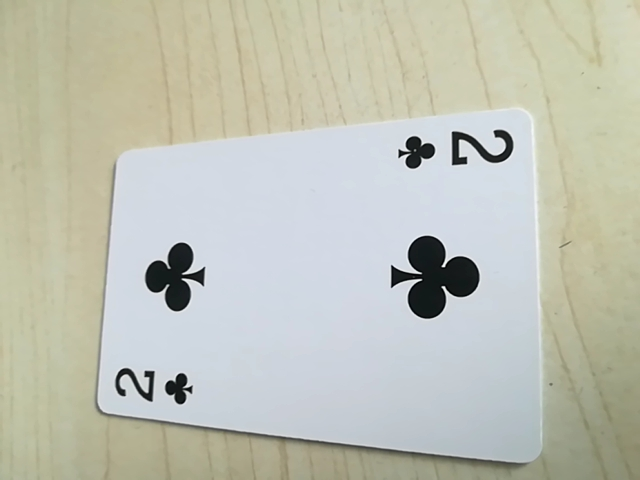mh 2: (392, 122, 519, 178), (109, 360, 203, 413)
